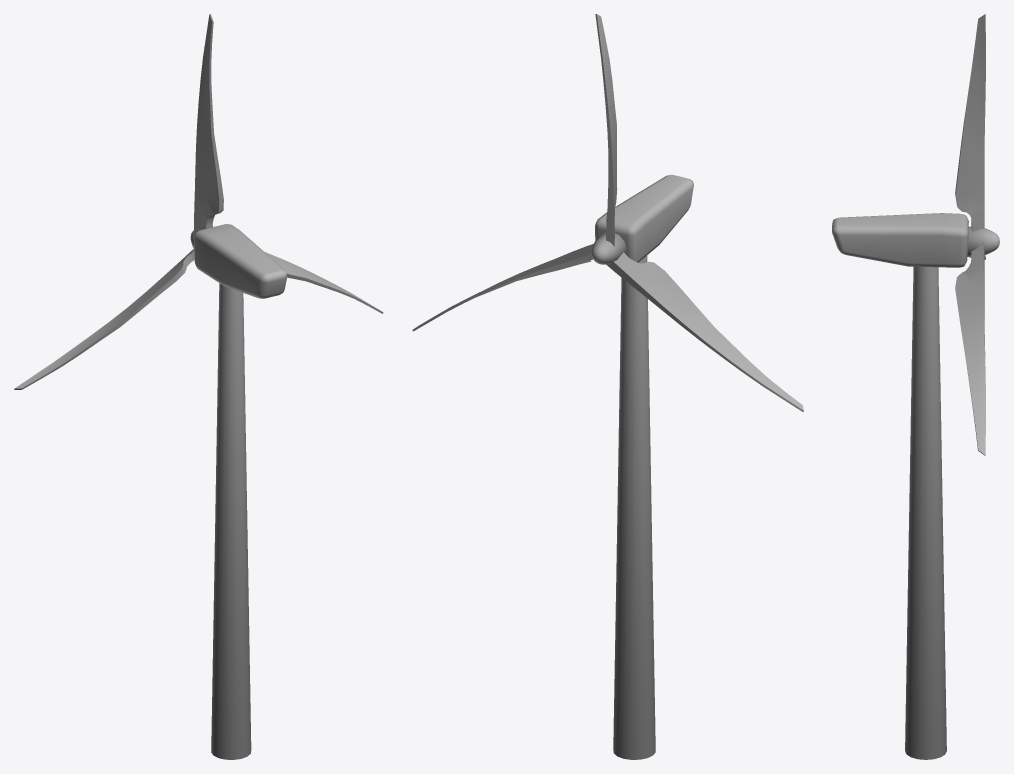
The model's file is OBJ_WindTurbine.fbx.
3 renders of one model, left to right at view 1: azimuth 30°, elevation 25°; view 2: azimuth 150°, elevation 25°; view 3: azimuth 270°, elevation 25°, orthographic. The views are drawn at different scales.
Visible parts, largest first — view 1: Tower, Blades; view 2: Tower, Blades; view 3: Tower, Blades.
Boxes of the visible parts, x1=… form: Tower: x1=193, y1=224, x2=287, y2=759; Blades: x1=14, y1=14, x2=383, y2=389; Tower: x1=595, y1=174, x2=693, y2=759; Blades: x1=412, y1=14, x2=803, y2=412; Tower: x1=832, y1=213, x2=968, y2=759; Blades: x1=955, y1=14, x2=999, y2=455.
Size of the model in its own units: 78.93 by 146 by 29.98.
